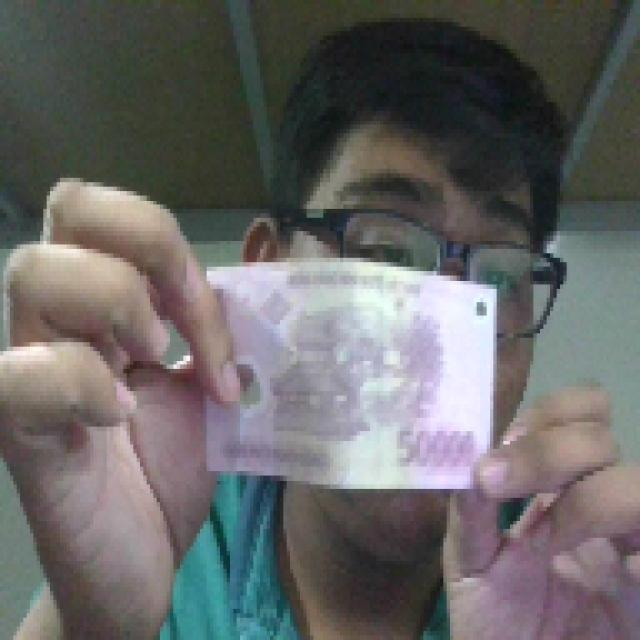50 000 VND: (197, 253, 500, 498)
